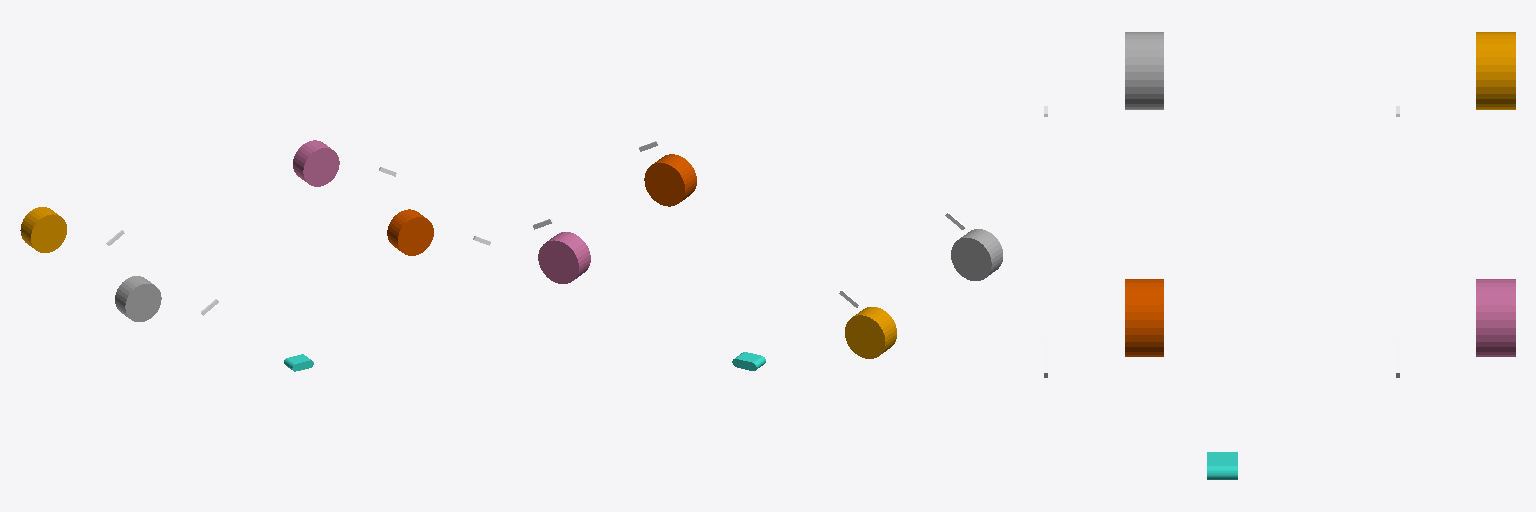
The robot description file, URDF, robot "hitomi":
<?xml version="1.0" ?>
<!-- =================================================================================== -->
<!-- |    This document was autogenerated by xacro from combined.urdf.xacro            | -->
<!-- |    EDITING THIS FILE BY HAND IS NOT RECOMMENDED                                 | -->
<!-- =================================================================================== -->
<robot name="hitomi">
  <link name="chassis_link">
    <visual>
      <origin rpy="0 0 0" xyz="0 0 0.7"/>
      <geometry>
        <mesh filename="package://hitomi/meshes/body.dae"/>
      </geometry>
      <material name="true_turquoise">
        <color rgba="0.251 0.878 0.816 1.0"/>
      </material>
    </visual>
    <collision>
      <origin rpy="0 0 0" xyz="0 0 0"/>
      <geometry>
        <mesh filename="package://hitomi/meshes/body.stl"/>
      </geometry>
    </collision>
    <inertial>
      <mass value="3.0"/>
      <inertia ixx="0.9" ixy="0.0" ixz="0.0" iyy="0.9" iyz="0.0" izz="0.01"/>
    </inertial>
  </link>
  <link name="leg_fl">
    <visual>
      <origin rpy="0 0.523 0" xyz="0 0 0"/>
      <geometry>
        <mesh filename="package://hitomi/meshes/leg.dae"/>
      </geometry>
      <material name="white">
        <color rgba="1 1 1 1"/>
      </material>
    </visual>
    <collision>
      <geometry>
        <mesh filename="package://hitomi/meshes/leg.stl"/>
      </geometry>
    </collision>
    <inertial>
      <mass value="0.5"/>
      <inertia ixx="0.005" ixy="0" ixz="0" iyy="0.005" iyz="0" izz="0.005"/>
    </inertial>
  </link>
  <joint name="leg_fl_joint" type="fixed">
    <!-- need to change the type from fixed to something so that the suspension will be simulated.-->
    <parent link="chassis_link"/>
    <child link="leg_fl"/>
    <origin rpy="0 0 0" xyz="1.5 -0.9 2"/>
  </joint>
  <link name="leg_fr">
    <visual>
      <origin rpy="0 0.523 0" xyz="0 0 0"/>
      <geometry>
        <mesh filename="package://hitomi/meshes/leg.dae"/>
      </geometry>
      <material name="white">
        <color rgba="1 1 1 1"/>
      </material>
    </visual>
    <collision>
      <geometry>
        <mesh filename="package://hitomi/meshes/leg.stl"/>
      </geometry>
    </collision>
    <inertial>
      <mass value="0.5"/>
      <inertia ixx="0.005" ixy="0" ixz="0" iyy="0.005" iyz="0" izz="0.005"/>
    </inertial>
  </link>
  <joint name="leg_fr_joint" type="fixed">
    <!-- need to change the type from fixed to something so that the suspension will be simulated.-->
    <parent link="chassis_link"/>
    <child link="leg_fr"/>
    <origin rpy="0 0 0" xyz="1.5 0.9 2"/>
  </joint>
  <link name="leg_rl">
    <visual>
      <origin rpy="0 -0.523 0" xyz="0 0 0"/>
      <geometry>
        <mesh filename="package://hitomi/meshes/leg.dae"/>
      </geometry>
      <material name="white">
        <color rgba="1 1 1 1"/>
      </material>
    </visual>
    <collision>
      <geometry>
        <mesh filename="package://hitomi/meshes/leg.stl"/>
      </geometry>
    </collision>
    <inertial>
      <mass value="0.5"/>
      <inertia ixx="0.005" ixy="0" ixz="0" iyy="0.005" iyz="0" izz="0.005"/>
    </inertial>
  </link>
  <joint name="leg_rl_joint" type="fixed">
    <!-- need to change the type from fixed to something so that the suspension will be simulated.-->
    <parent link="chassis_link"/>
    <child link="leg_rl"/>
    <origin rpy="0 0 0" xyz="-1.5 -0.9 2"/>
  </joint>
  <link name="leg_rr">
    <visual>
      <origin rpy="0 -0.523 0" xyz="0 0 0"/>
      <geometry>
        <mesh filename="package://hitomi/meshes/leg.dae"/>
      </geometry>
      <material name="white">
        <color rgba="1 1 1 1"/>
      </material>
    </visual>
    <collision>
      <geometry>
        <mesh filename="package://hitomi/meshes/leg.stl"/>
      </geometry>
    </collision>
    <inertial>
      <mass value="0.5"/>
      <inertia ixx="0.005" ixy="0" ixz="0" iyy="0.005" iyz="0" izz="0.005"/>
    </inertial>
  </link>
  <joint name="leg_rr_joint" type="fixed">
    <!-- need to change the type from fixed to something so that the suspension will be simulated.-->
    <parent link="chassis_link"/>
    <child link="leg_rr"/>
    <origin rpy="0 0 0" xyz="-1.5 0.9 2"/>
  </joint>
  <link name="wheel_fl">
    <visual>
      <origin rpy="1.570795 0 0" xyz="0 0 0"/>
      <geometry>
        <cylinder length="0.2" radius="0.2"/>
      </geometry>
    </visual>
    <collision>
      <geometry>
        <cylinder length="0.2" radius="0.2"/>
      </geometry>
    </collision>
    <inertial>
      <mass value="0.5"/>
      <inertia ixx="0.005" ixy="0" ixz="0" iyy="0.005" iyz="0" izz="0.005"/>
    </inertial>
  </link>
  <joint name="wheel_fl_joint" type="continuous">
    <parent link="leg_fl"/>
    <child link="wheel_fl"/>
    <origin xyz="-0.5 0.5 0"/>
    <axis xyz="0 0 1"/>
  </joint>
  <link name="wheel_fr">
    <visual>
      <origin rpy="1.570795 0 0" xyz="0 0 0"/>
      <geometry>
        <cylinder length="0.2" radius="0.2"/>
      </geometry>
    </visual>
    <collision>
      <geometry>
        <cylinder length="0.2" radius="0.2"/>
      </geometry>
    </collision>
    <inertial>
      <mass value="0.5"/>
      <inertia ixx="0.005" ixy="0" ixz="0" iyy="0.005" iyz="0" izz="0.005"/>
    </inertial>
  </link>
  <joint name="wheel_fr_joint" type="continuous">
    <parent link="leg_fr"/>
    <child link="wheel_fr"/>
    <origin xyz="-0.5 0.5 0"/>
    <axis xyz="0 0 1"/>
  </joint>
  <link name="wheel_rl">
    <visual>
      <origin rpy="1.570795 0 0" xyz="0 0 0"/>
      <geometry>
        <cylinder length="0.2" radius="0.2"/>
      </geometry>
    </visual>
    <collision>
      <geometry>
        <cylinder length="0.2" radius="0.2"/>
      </geometry>
    </collision>
    <inertial>
      <mass value="0.5"/>
      <inertia ixx="0.005" ixy="0" ixz="0" iyy="0.005" iyz="0" izz="0.005"/>
    </inertial>
  </link>
  <joint name="wheel_rl_joint" type="continuous">
    <parent link="leg_rl"/>
    <child link="wheel_rl"/>
    <origin xyz="-0.5 0.5 0"/>
    <axis xyz="0 0 1"/>
  </joint>
  <link name="wheel_rr">
    <visual>
      <origin rpy="1.570795 0 0" xyz="0 0 0"/>
      <geometry>
        <cylinder length="0.2" radius="0.2"/>
      </geometry>
    </visual>
    <collision>
      <geometry>
        <cylinder length="0.2" radius="0.2"/>
      </geometry>
    </collision>
    <inertial>
      <mass value="0.5"/>
      <inertia ixx="0.005" ixy="0" ixz="0" iyy="0.005" iyz="0" izz="0.005"/>
    </inertial>
  </link>
  <joint name="wheel_rr_joint" type="continuous">
    <parent link="leg_rr"/>
    <child link="wheel_rr"/>
    <origin xyz="-0.5 0.5 0"/>
    <axis xyz="0 0 1"/>
  </joint>
</robot>

--- Render facts (derived) ---
The picture shows the robot from 3 angles, left to right: view 1: azimuth 30°, elevation 25°; view 2: azimuth 150°, elevation 25°; view 3: azimuth 270°, elevation 25°; orthographic projection.
Model hitomi with 9 links and 8 joints (4 continuous, 4 fixed), rooted at chassis_link, posed all joints at 0.
Links seen in each view (by area): view 1: wheel_fl, wheel_fr, wheel_rr, wheel_rl; view 2: wheel_fl, wheel_fr, wheel_rr, wheel_rl; view 3: wheel_fr, wheel_rr, wheel_fl, wheel_rl, chassis_link.
Boxes of the visible links, x1,y1,x2,y2 form: wheel_fl: [387, 209, 433, 255]; wheel_fr: [293, 140, 339, 186]; wheel_rr: [20, 207, 66, 252]; wheel_rl: [115, 276, 161, 321]; wheel_fl: [644, 154, 696, 206]; wheel_fr: [538, 232, 590, 283]; wheel_rr: [845, 307, 896, 358]; wheel_rl: [951, 229, 1002, 280]; wheel_fr: [1476, 279, 1515, 356]; wheel_rr: [1476, 32, 1515, 109]; wheel_fl: [1125, 279, 1163, 356]; wheel_rl: [1125, 32, 1163, 109]; chassis_link: [1207, 452, 1237, 479].
Size in the robot's own frame: 3.8 by 2.41 by 1.54 metres.
5 mesh visuals loaded from 2 distinct referenced files (2 Collada DAE).